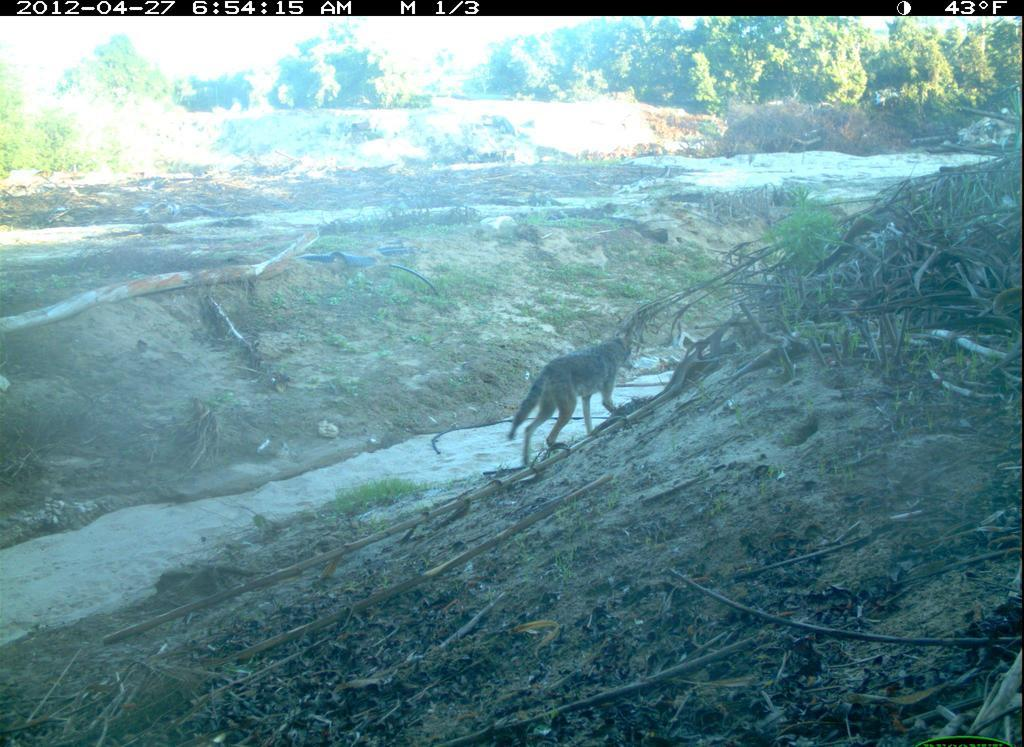coyote: (497, 321, 647, 470)
